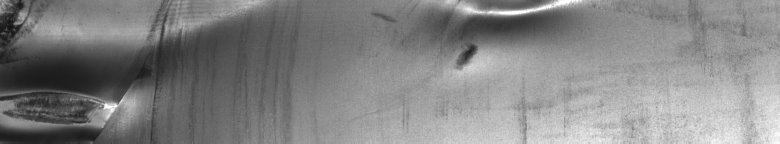ke: (4, 4, 264, 136)
